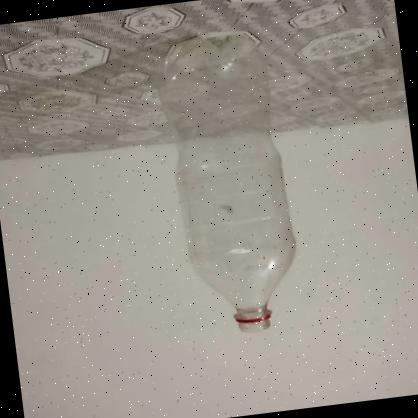bottle: (151, 24, 311, 342)
